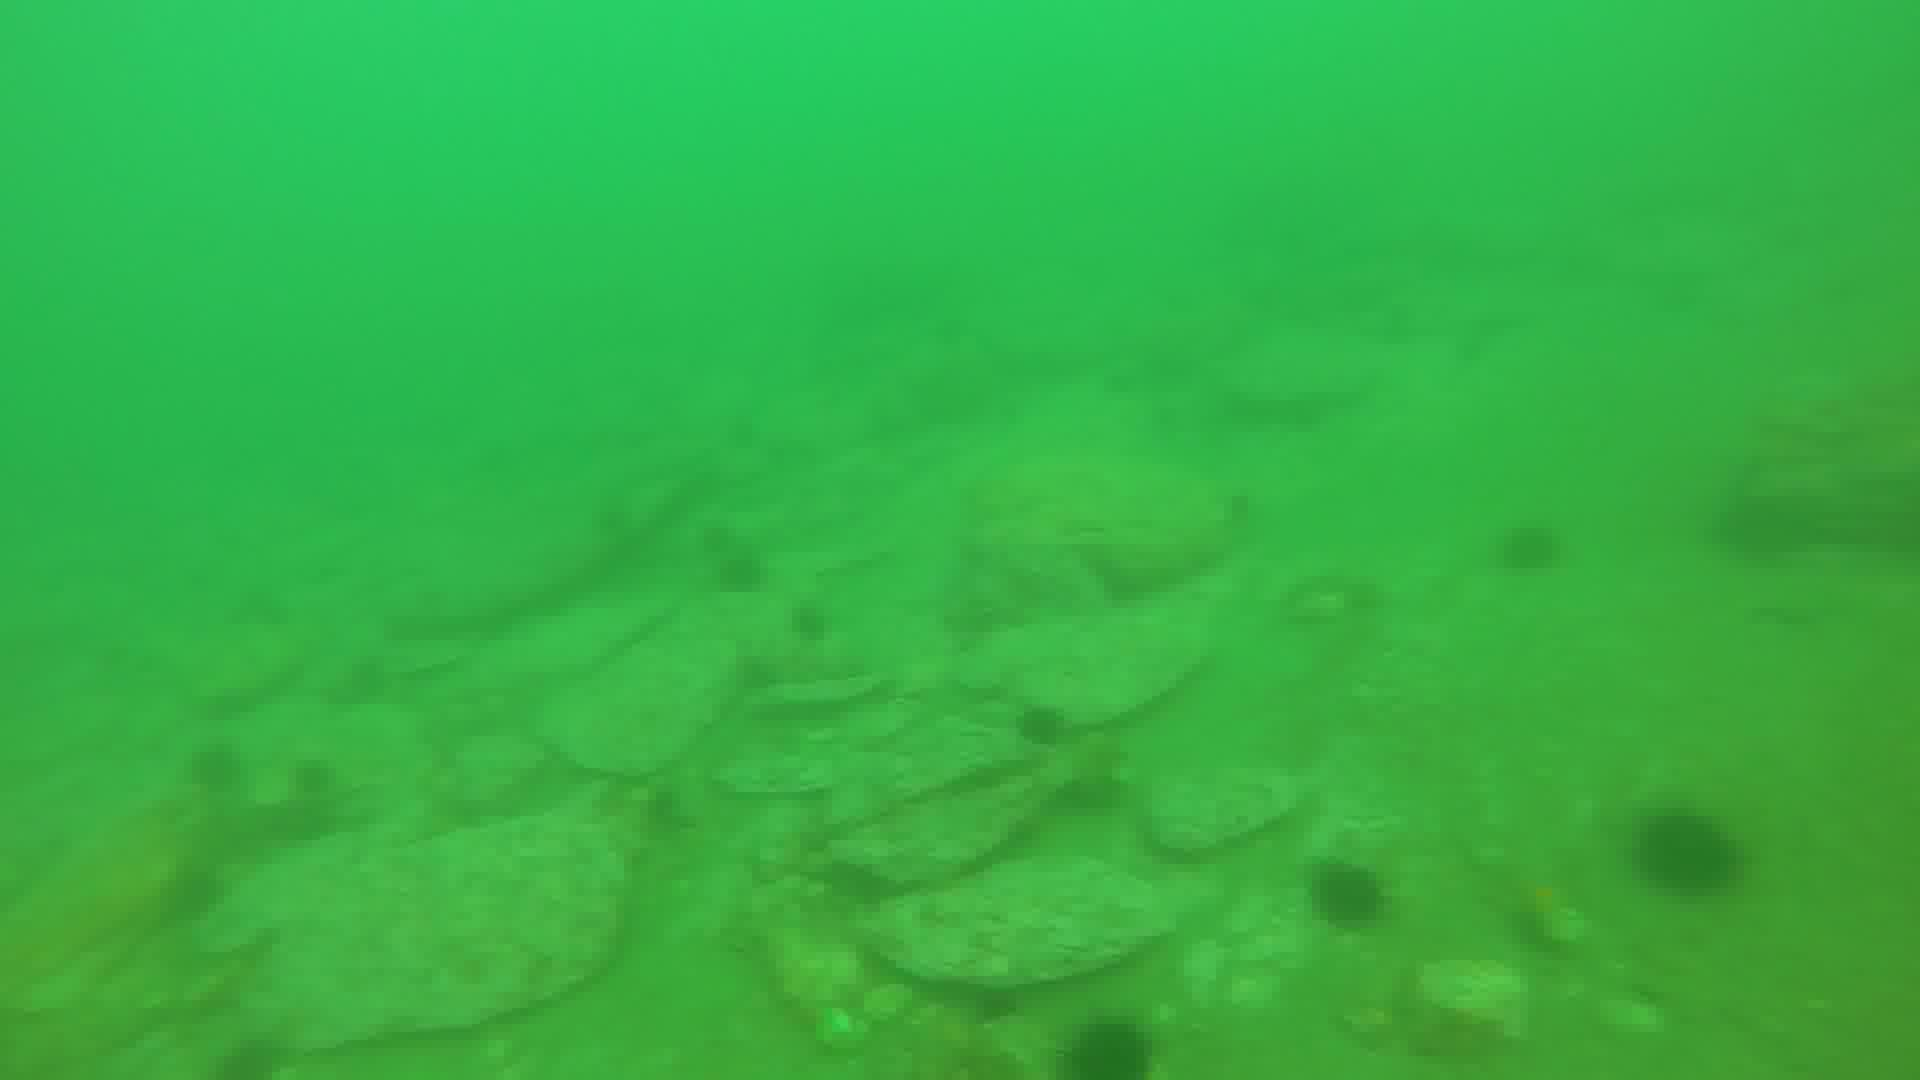echinus: (1630, 812, 1760, 899), (1064, 1015, 1156, 1080), (1309, 860, 1389, 931), (1502, 524, 1568, 574), (189, 742, 247, 793), (1014, 704, 1068, 748), (720, 559, 769, 593)
